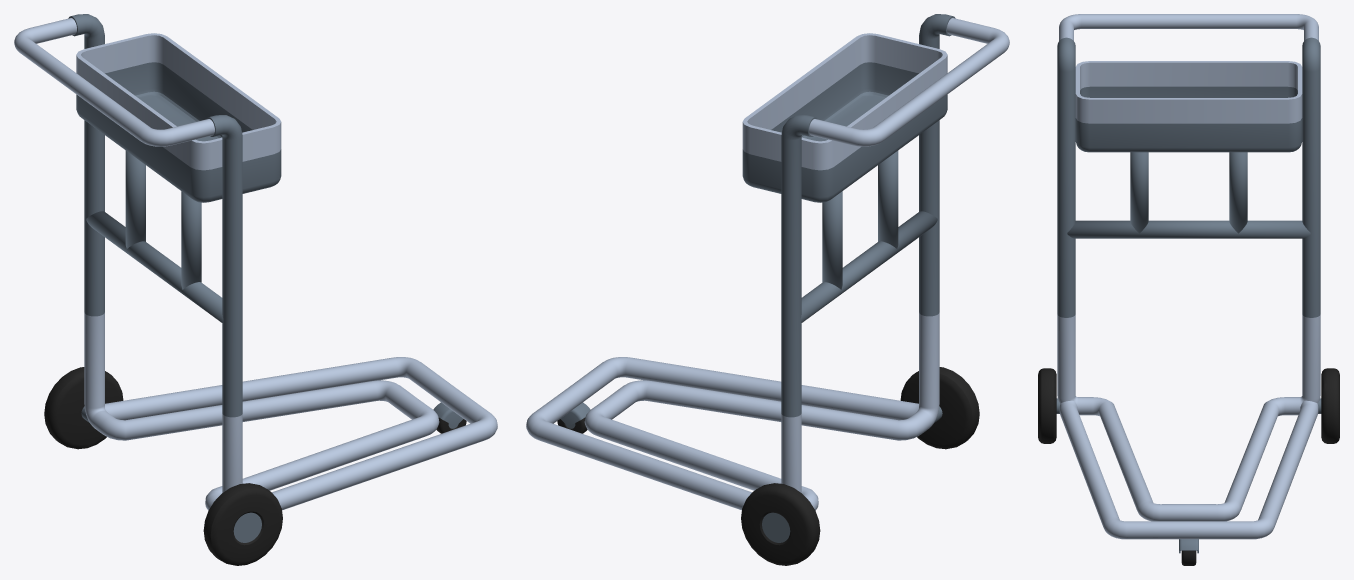
Rendered from 17_3_Model_AIRPORT_0.obj.
The picture shows the model from 3 angles, left to right: view 1: azimuth 30°, elevation 25°; view 2: azimuth 150°, elevation 25°; view 3: azimuth 270°, elevation 25°; orthographic projection. The views are drawn at different scales.
Visible parts, largest first — view 1: 17.3.Model_AIRPORT_0; view 2: 17.3.Model_AIRPORT_0; view 3: 17.3.Model_AIRPORT_0.
Boxes of the visible parts, x1,y1,x2,y2 form: 17.3.Model_AIRPORT_0: [14, 14, 497, 565]; 17.3.Model_AIRPORT_0: [526, 14, 1009, 565]; 17.3.Model_AIRPORT_0: [1038, 14, 1339, 565].
Size of the model in its own units: 1.02 by 1.12 by 0.7801.
1 material, 1 textured.
